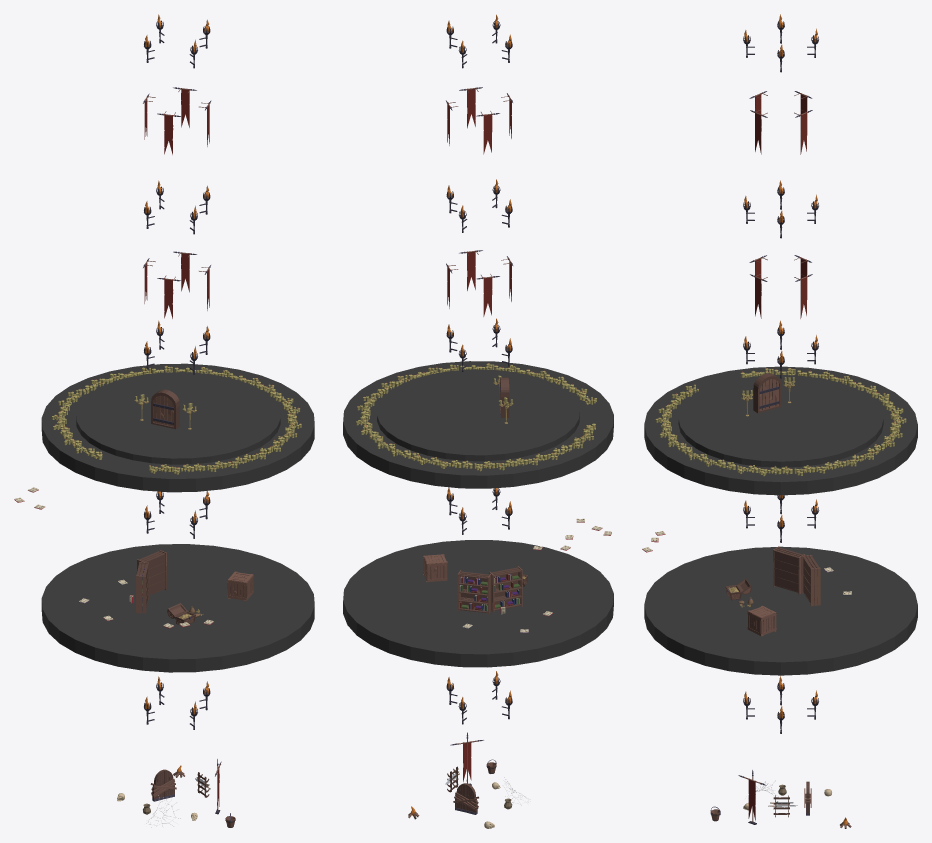
Rendered from decorations.fbx.
The picture shows the model from 3 angles, left to right: view 1: azimuth 30°, elevation 25°; view 2: azimuth 150°, elevation 25°; view 3: azimuth 270°, elevation 25°; orthographic projection.
Parts seen in each view (by area): view 1: BaseFloor.002, BaseFloor.004, BaseFloor.003, Arch_Door_bottompivot, Bookcase_Full.001, Candles_1.001, Candles_1.003, Crate, Bookcase_Full, Doors_RoundArch_Covered, Candles_1.002, Candles_2.003 (+1 smaller); view 2: BaseFloor.002, BaseFloor.004, BaseFloor.003, Bookcase_Full.001, Bookcase_Full, Candles_1.003, Candles_1.002, Crate, Doors_RoundArch_Covered, Candles_1.001, Candles_2.003, Candles_2.002 (+1 smaller); view 3: BaseFloor.002, BaseFloor.004, BaseFloor.003, Bookcase_Full, Arch_Door_bottompivot, Bookcase_Full.001, Candles_1.002, Crate, Candles_1.001, Candles_1.003, Candles_2.002, Candles_2.001 (+1 smaller).
Part boxes in pixels (box(x1,y1,x2,y2)): BaseFloor.002: box(41, 544, 314, 672); BaseFloor.004: box(76, 372, 280, 464); BaseFloor.003: box(41, 363, 314, 492); Arch_Door_bottompivot: box(151, 389, 179, 429); Bookcase_Full.001: box(136, 550, 166, 595); Candles_1.001: box(160, 411, 297, 472); Candles_1.003: box(57, 378, 112, 459); Crate: box(227, 571, 253, 601); Bookcase_Full: box(136, 562, 149, 613); Doors_RoundArch_Covered: box(150, 769, 176, 801); Candles_1.002: box(120, 367, 292, 410); Candles_2.003: box(52, 373, 121, 453); BaseFloor.002: box(343, 540, 613, 667); BaseFloor.004: box(377, 369, 579, 461); BaseFloor.003: box(343, 361, 613, 488); Bookcase_Full.001: box(457, 570, 491, 614); Bookcase_Full: box(489, 566, 522, 612); Candles_1.003: box(430, 423, 595, 468); Candles_1.002: box(360, 380, 419, 461); Crate: box(423, 554, 447, 582); Doors_RoundArch_Covered: box(453, 783, 478, 814); Candles_1.001: box(408, 365, 588, 400); Candles_2.003: box(419, 433, 593, 471); Candles_2.002: box(356, 374, 409, 456); BaseFloor.002: box(644, 546, 917, 675); BaseFloor.004: box(678, 375, 883, 467); BaseFloor.003: box(644, 366, 917, 495); Bookcase_Full: box(773, 546, 805, 594); Arch_Door_bottompivot: box(753, 373, 781, 413); Bookcase_Full.001: box(802, 555, 820, 606); Candles_1.002: box(748, 420, 900, 474); Crate: box(747, 605, 776, 636); Candles_1.001: box(661, 390, 735, 469); Candles_1.003: box(740, 369, 900, 419); Candles_2.002: box(737, 431, 902, 476); Candles_2.001: box(655, 384, 717, 466).
Bounding box in the file's own units: 1809 × 5519 × 1762.
